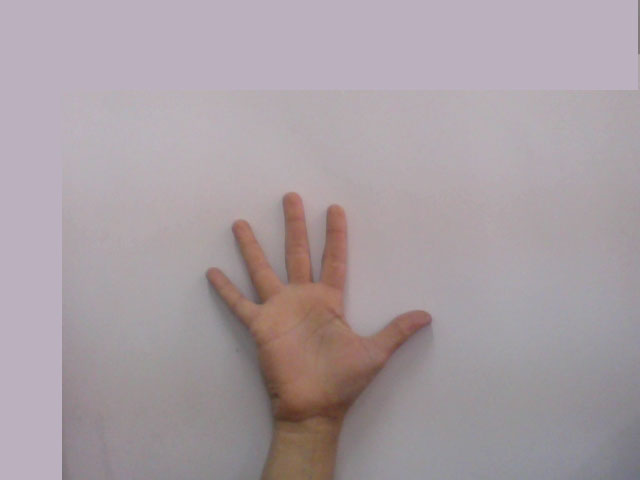hand: (197, 181, 443, 416)
